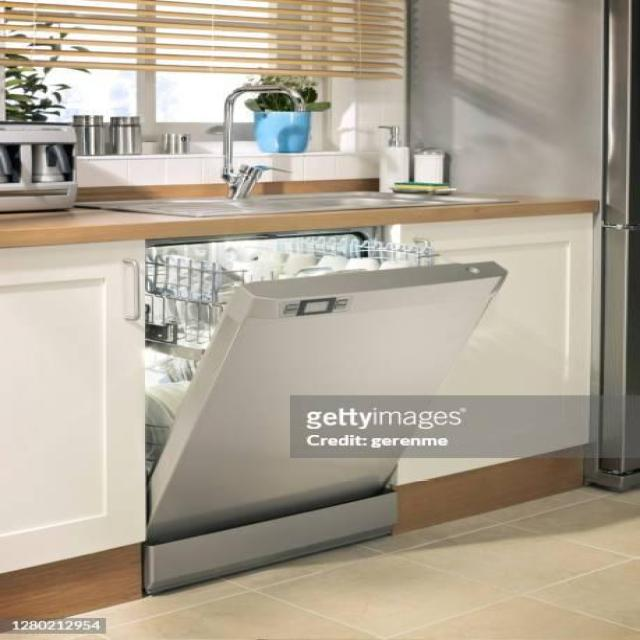dishwasher: (114, 232, 476, 608)
